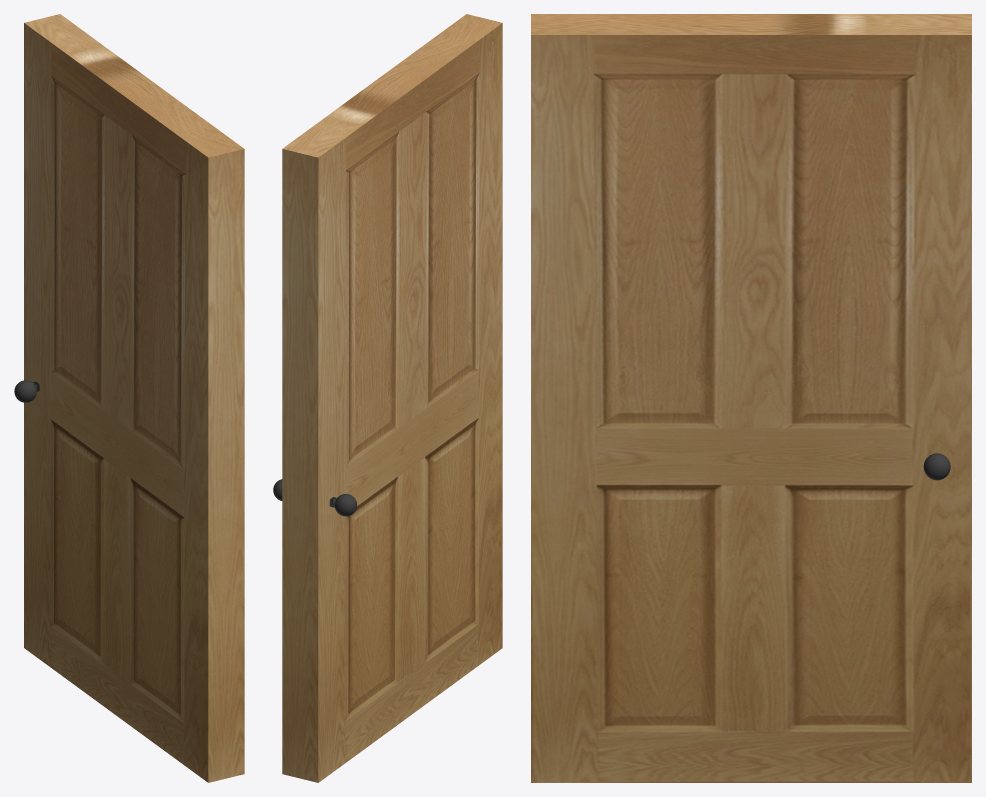
Rendered from Door.fbx.
The picture shows the model from 3 angles, left to right: view 1: azimuth 30°, elevation 25°; view 2: azimuth 150°, elevation 25°; view 3: azimuth 270°, elevation 25°; orthographic projection. The views are drawn at different scales.
Parts seen in each view (by area): view 1: Cube; view 2: Cube; view 3: Cube.
Boxes of the visible parts, x1,y1,x2,y2 form: Cube: [14, 14, 244, 782]; Cube: [273, 14, 502, 782]; Cube: [531, 14, 971, 782].
Bounding box in the file's own units: 50.76 × 374 × 200.
